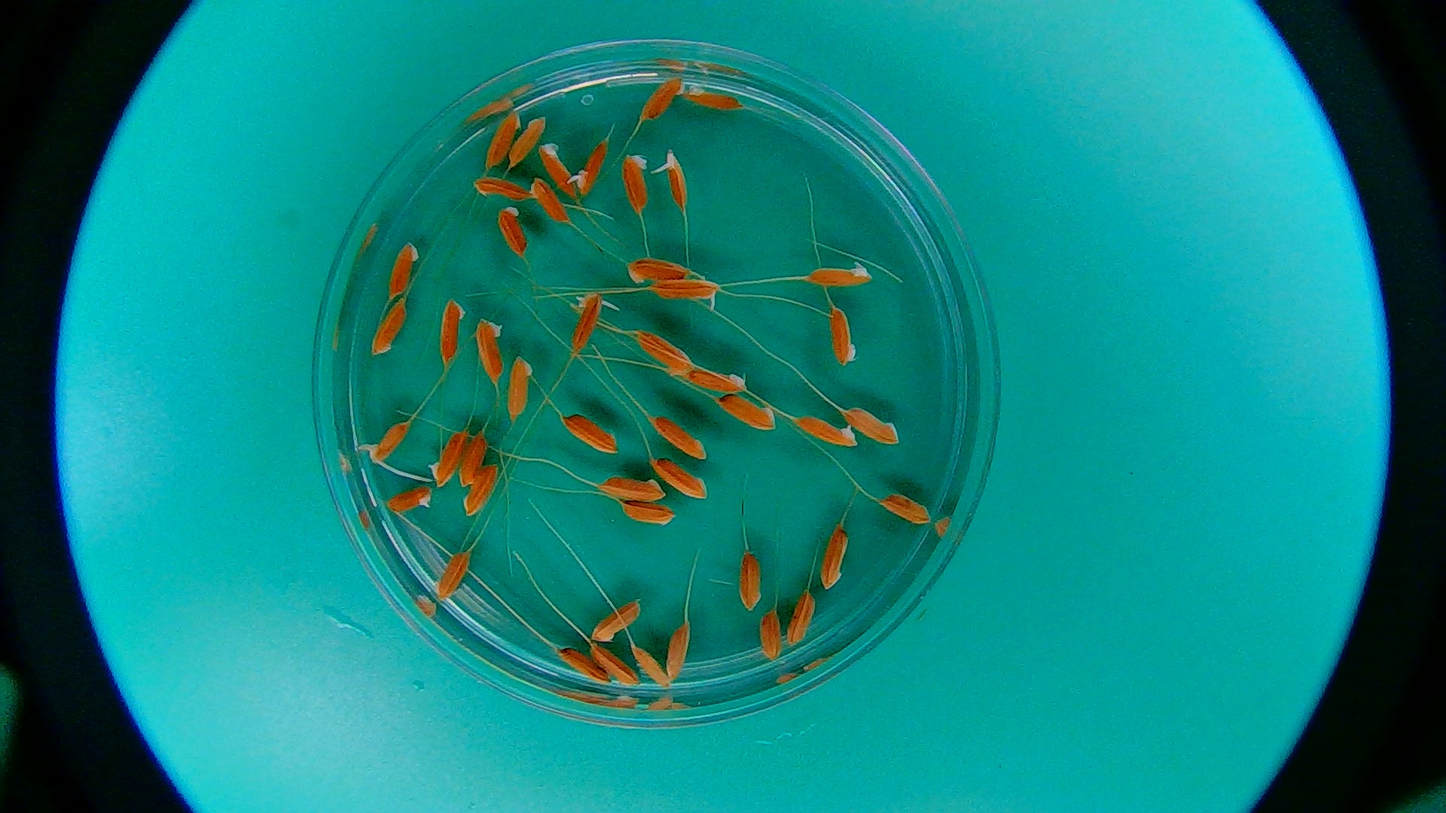no: (535, 141, 581, 206), (634, 327, 694, 369), (649, 415, 707, 458), (560, 415, 620, 455), (590, 598, 643, 642), (386, 240, 422, 303), (473, 317, 504, 390), (719, 393, 777, 432), (432, 549, 471, 603), (818, 523, 849, 589), (806, 259, 874, 289), (655, 458, 708, 496), (796, 416, 853, 450), (640, 75, 683, 120), (438, 297, 465, 367), (876, 492, 933, 525), (846, 406, 899, 441), (374, 299, 407, 355), (530, 177, 566, 228), (487, 108, 519, 165), (505, 356, 533, 421), (495, 204, 529, 257), (552, 648, 602, 684), (623, 151, 649, 218), (682, 84, 740, 114), (625, 258, 693, 283), (597, 476, 665, 501), (429, 430, 459, 486), (829, 304, 855, 368), (787, 589, 816, 646), (465, 468, 499, 516), (514, 117, 546, 168), (596, 644, 637, 683), (460, 428, 487, 486), (737, 550, 762, 612), (686, 368, 747, 392), (667, 617, 691, 678), (635, 645, 670, 686), (386, 486, 435, 513), (621, 501, 676, 525), (471, 177, 531, 199), (759, 607, 782, 662)
yes: (564, 289, 627, 356), (573, 142, 609, 197), (648, 277, 722, 303), (367, 419, 409, 459), (659, 148, 687, 206)
